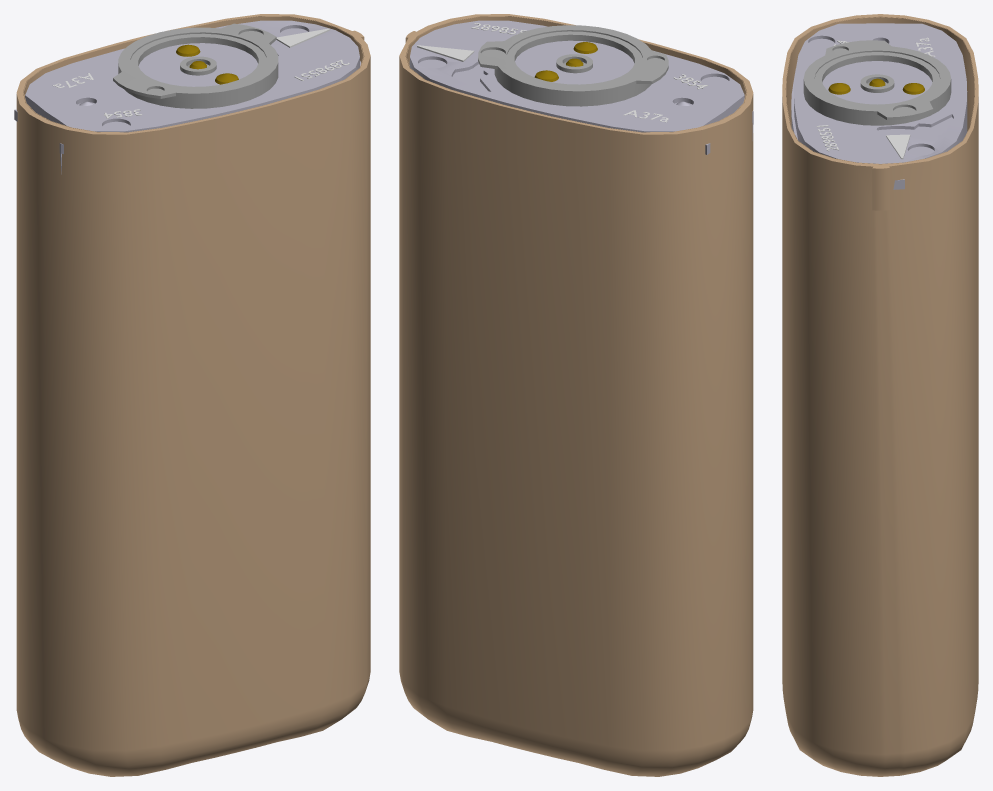
The model's file is nucleus7_battery_disposable_beige.glb.
3 renders of one model, left to right at view 1: azimuth 30°, elevation 25°; view 2: azimuth 150°, elevation 25°; view 3: azimuth 270°, elevation 25°, orthographic. The views are drawn at different scales.
Visible parts, largest first — view 1: Casing for Battery, Battery Module for Charging; view 2: Casing for Battery, Battery Module for Charging; view 3: Casing for Battery, Battery Module for Charging.
Part boxes in pixels (x1,y1,x2,y2): Casing for Battery: (16,14,370,776); Battery Module for Charging: (14,20,360,174); Casing for Battery: (399,14,753,776); Battery Module for Charging: (409,20,753,154); Casing for Battery: (782,14,978,776); Battery Module for Charging: (791,23,967,189).
Bounding box in the file's own units: 0.0483 × 0.0945 × 0.026.
